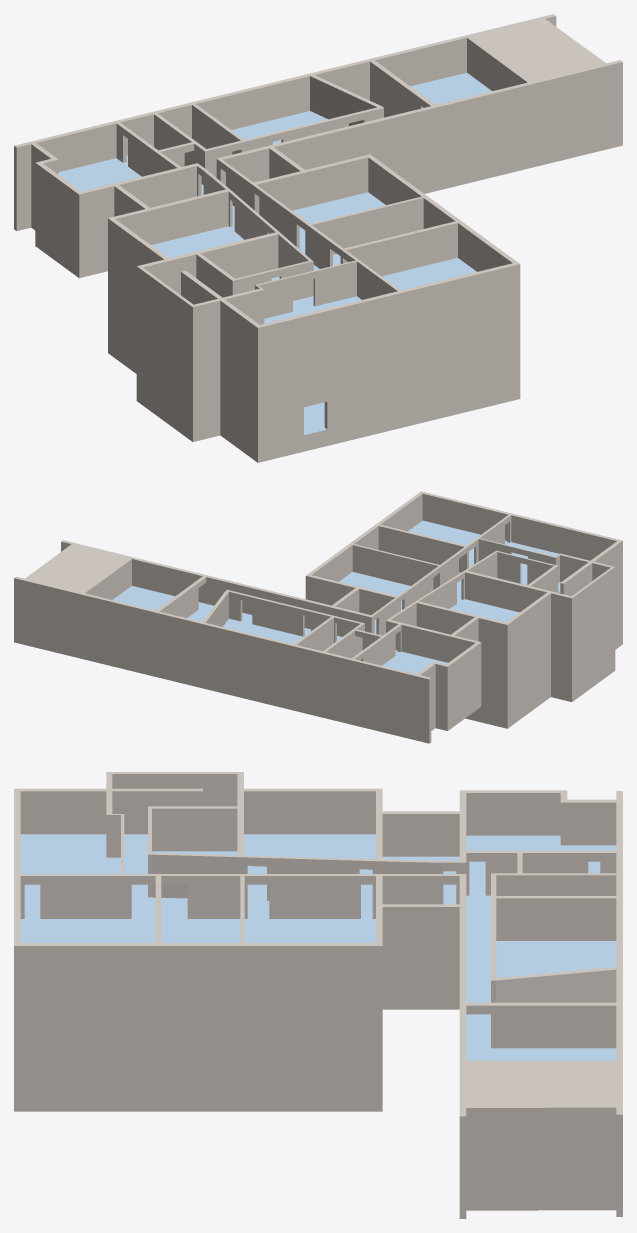
The model's file is BatimentC.glb.
3 views of the same model, one above another, from view 1: azimuth 30°, elevation 25°; view 2: azimuth 150°, elevation 25°; view 3: azimuth 270°, elevation 25° (orthographic). The views are drawn at different scales.
Parts seen in each view (by area): view 1: E2, E1, E0_RDC; view 2: E2, E1, E0_RDC; view 3: E2, E1, E0_RDC.
Part boxes in pixels (left/top/right/bottom): E2: left=14, top=14, right=622, bottom=369; E1: left=14, top=104, right=622, bottom=411; E0_RDC: left=108, top=302, right=520, bottom=462; E2: left=14, top=491, right=622, bottom=711; E1: left=14, top=573, right=622, bottom=743; E0_RDC: left=465, top=605, right=622, bottom=728; E2: left=14, top=772, right=622, bottom=1167; E1: left=14, top=958, right=622, bottom=1218; E0_RDC: left=14, top=1048, right=382, bottom=1111.
Size of the model in its own units: 43.12 by 9.69 by 32.26.
